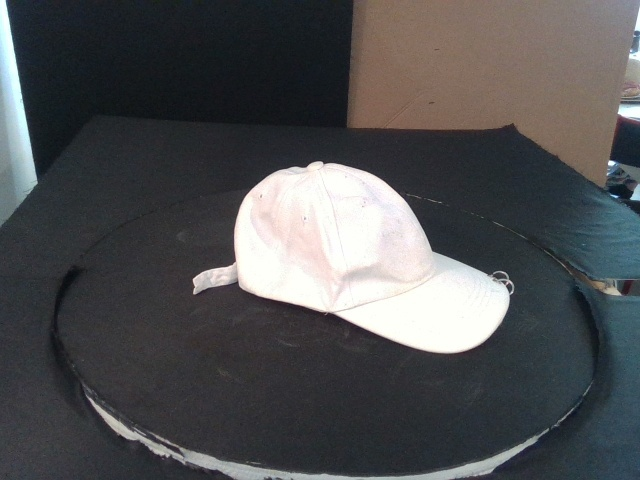hat: (235, 161, 511, 355)
